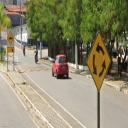Rotatoria: (86, 30, 112, 92)
